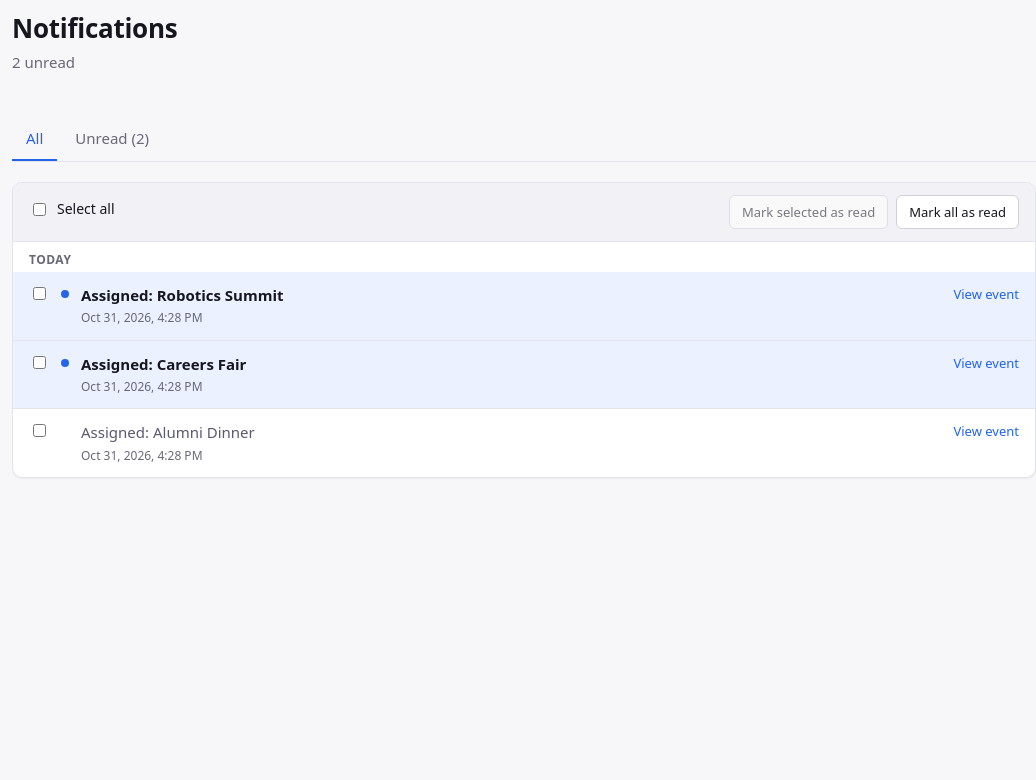
Test: marking as read › puts the unread state back and explains why when the server refuses
The width and height of the screenshot is (1036, 780).
Expected: the text "Assigned: Robotics Summit" is shown, 81,284 -> 346,305
Click the checkbox named "Select: Assigned: Careers Fair": (40, 362) 33,356 -> 46,369
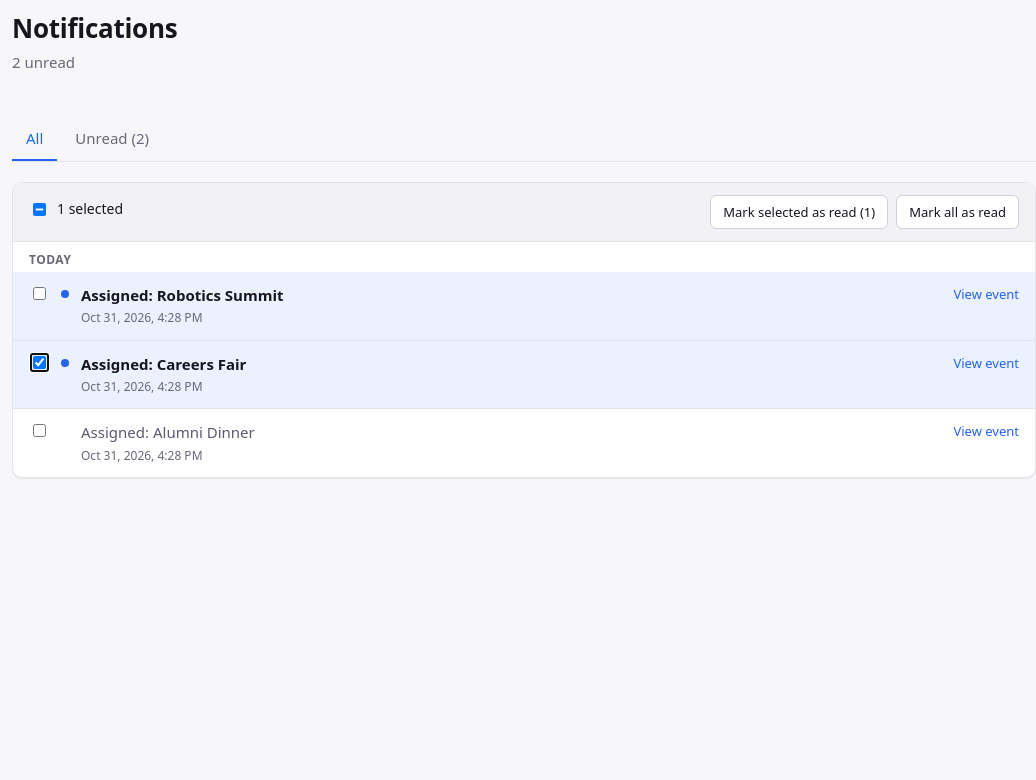
Click the button "Mark selected as read (1)": (799, 212) 710,195 -> 888,229
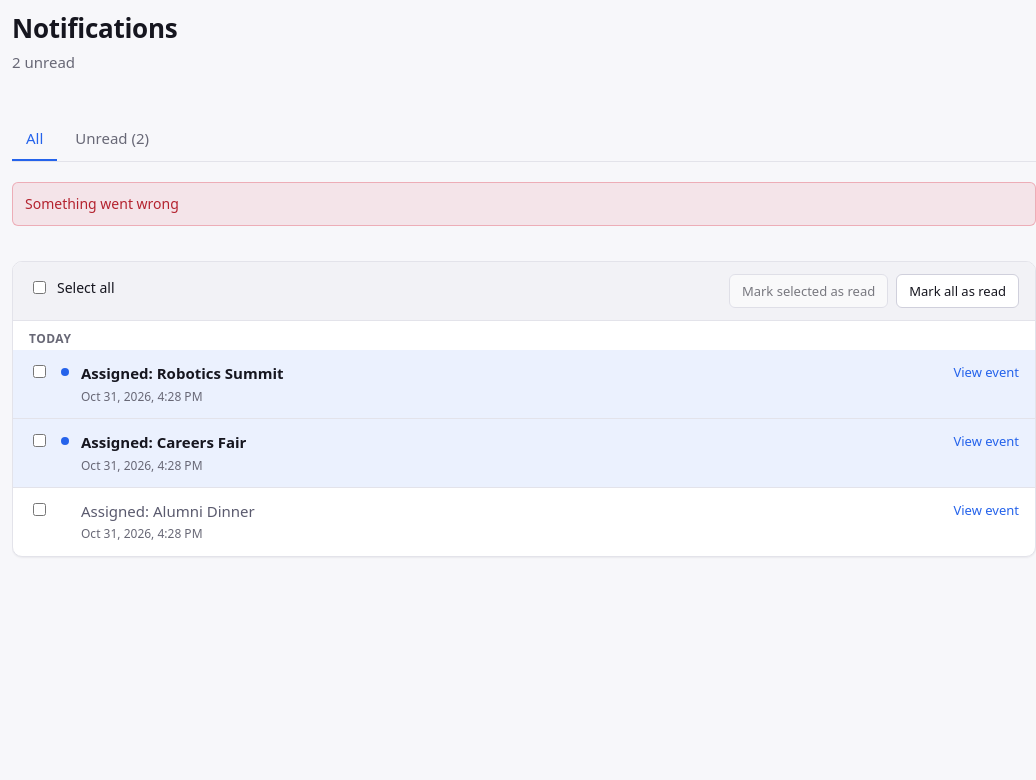
Now the message reads "Something went wrong", box 25,194 -> 179,213
